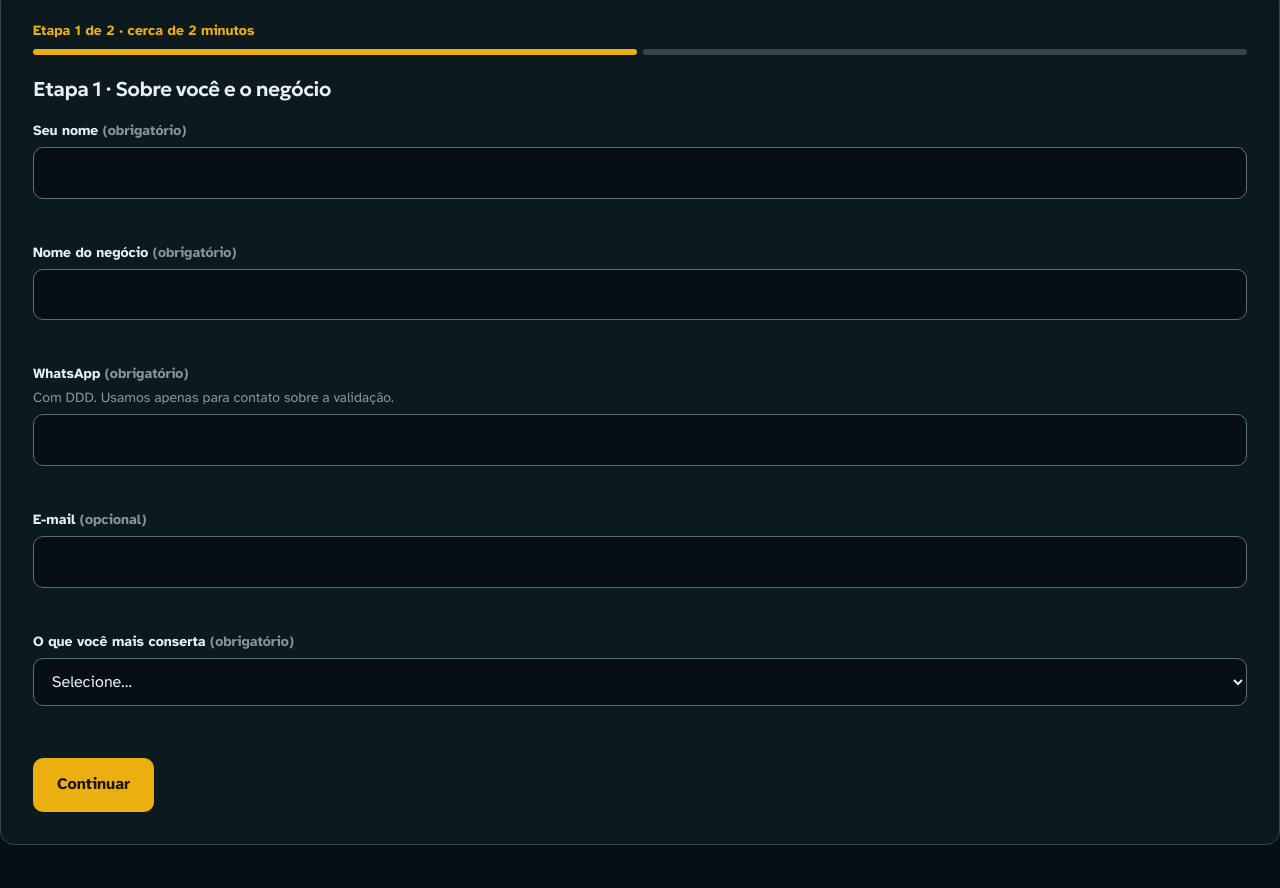
Test case: LeadInterestForm (FR-011..FR-025, NFR-001) › keeps the privacy consent checkbox unchecked by default (never preselected)
Type "Fulano de Teste" into the field labelled "Seu nome (obrigatório)". click: (640, 173)
box: [33, 147, 1247, 198]
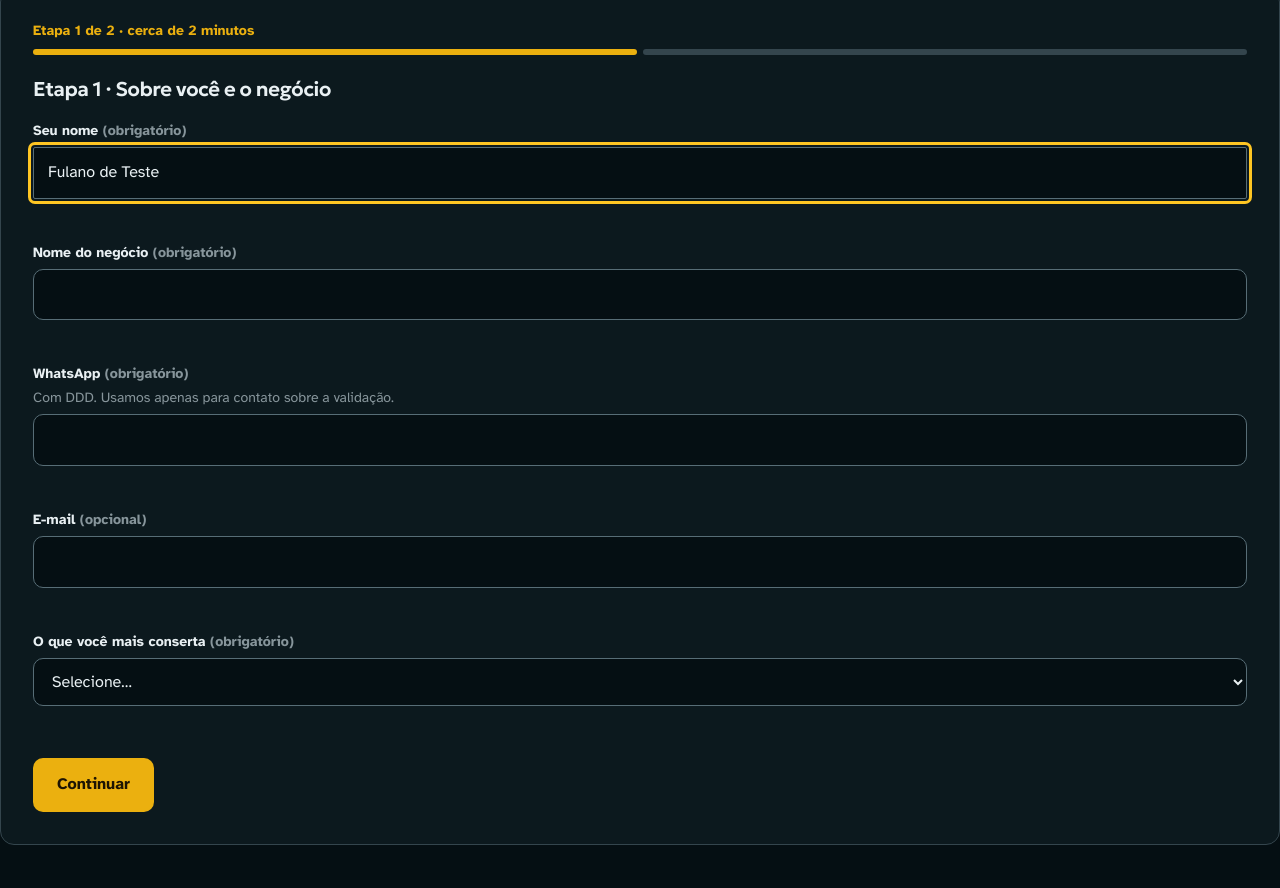
Type "Bancada Sintética" into the field labelled "Nome do negócio (obrigatório)". click: (640, 294)
box: [33, 268, 1247, 320]
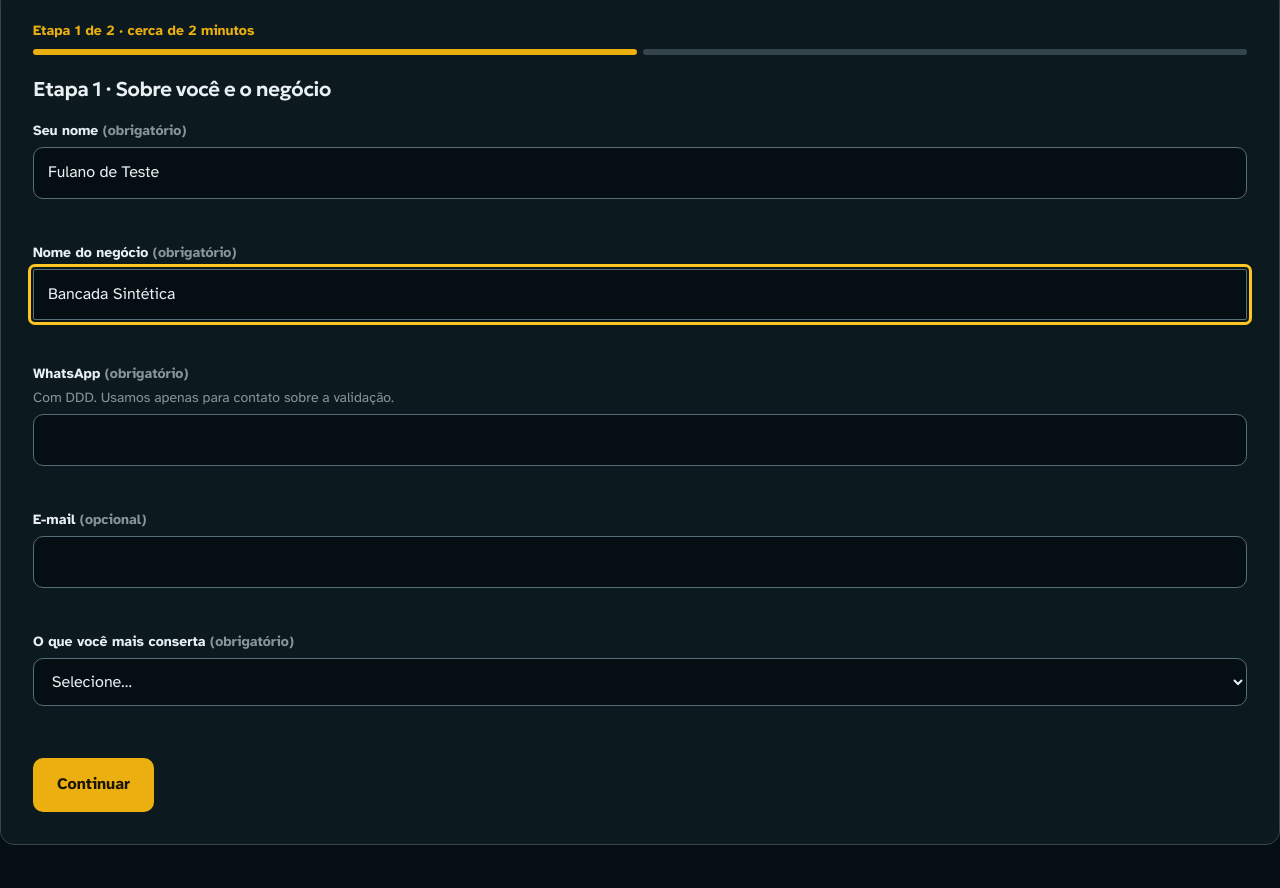
Type "11988887777" into the field labelled "WhatsApp (obrigatório)". click: (640, 440)
box: [33, 414, 1247, 466]
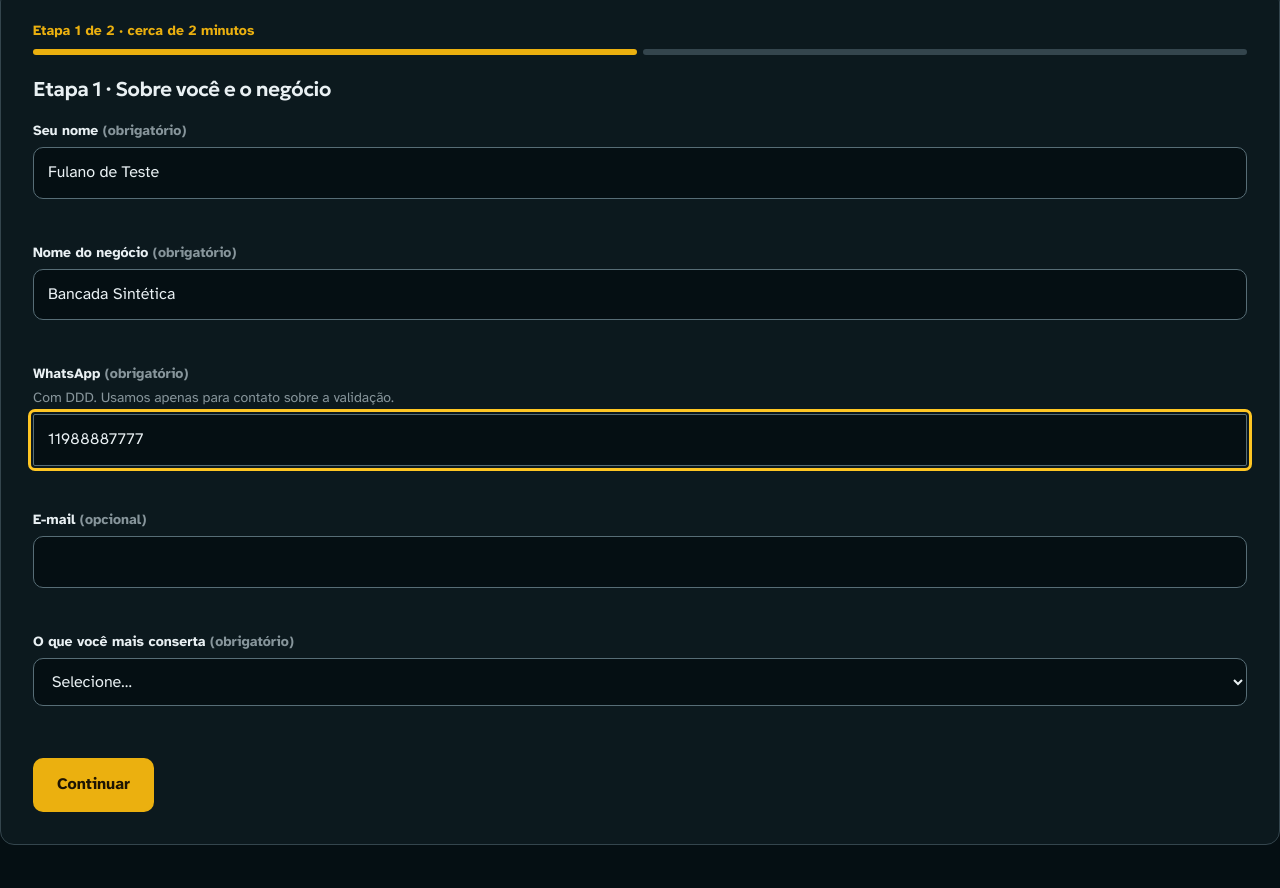
Type "ana@example.com" into the field labelled "E-mail (opcional)". click: (640, 562)
box: [33, 536, 1247, 588]
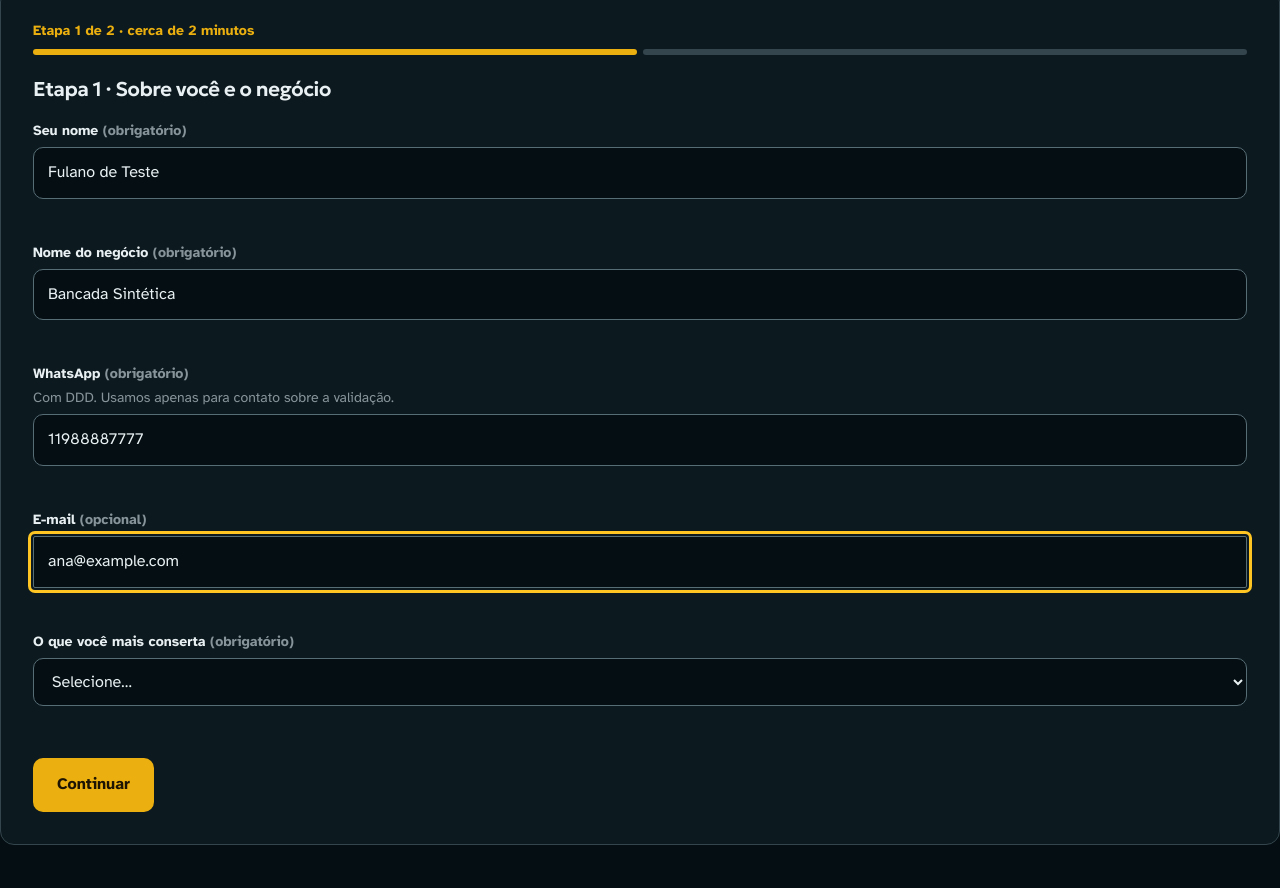
Select "Celulares e tablets" in the dropdown labelled "O que você mais conserta (obrigatório)". click: (640, 682)
box: [33, 658, 1247, 706]
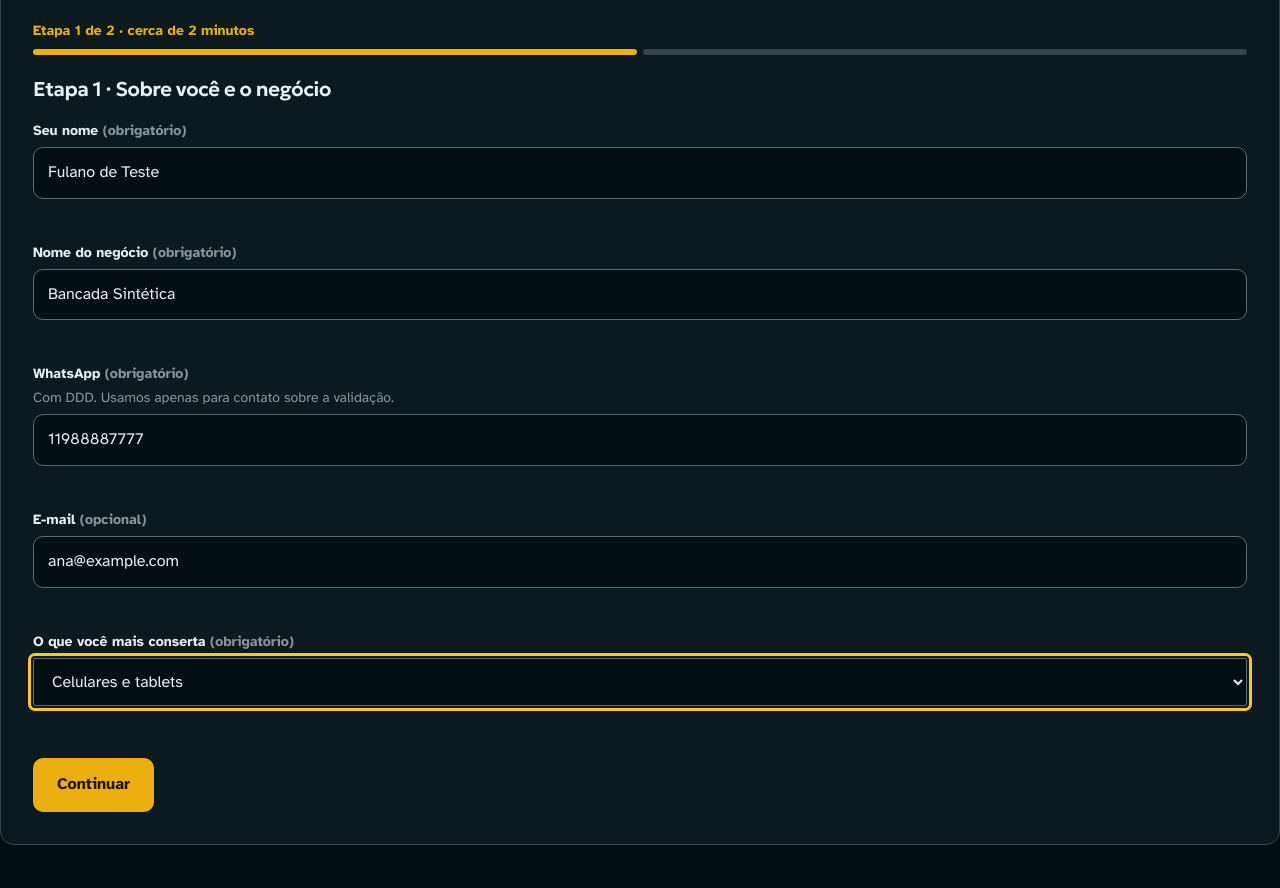
Click the button "Continuar". click: (94, 785)
box: [33, 758, 154, 812]
(page scrolled)
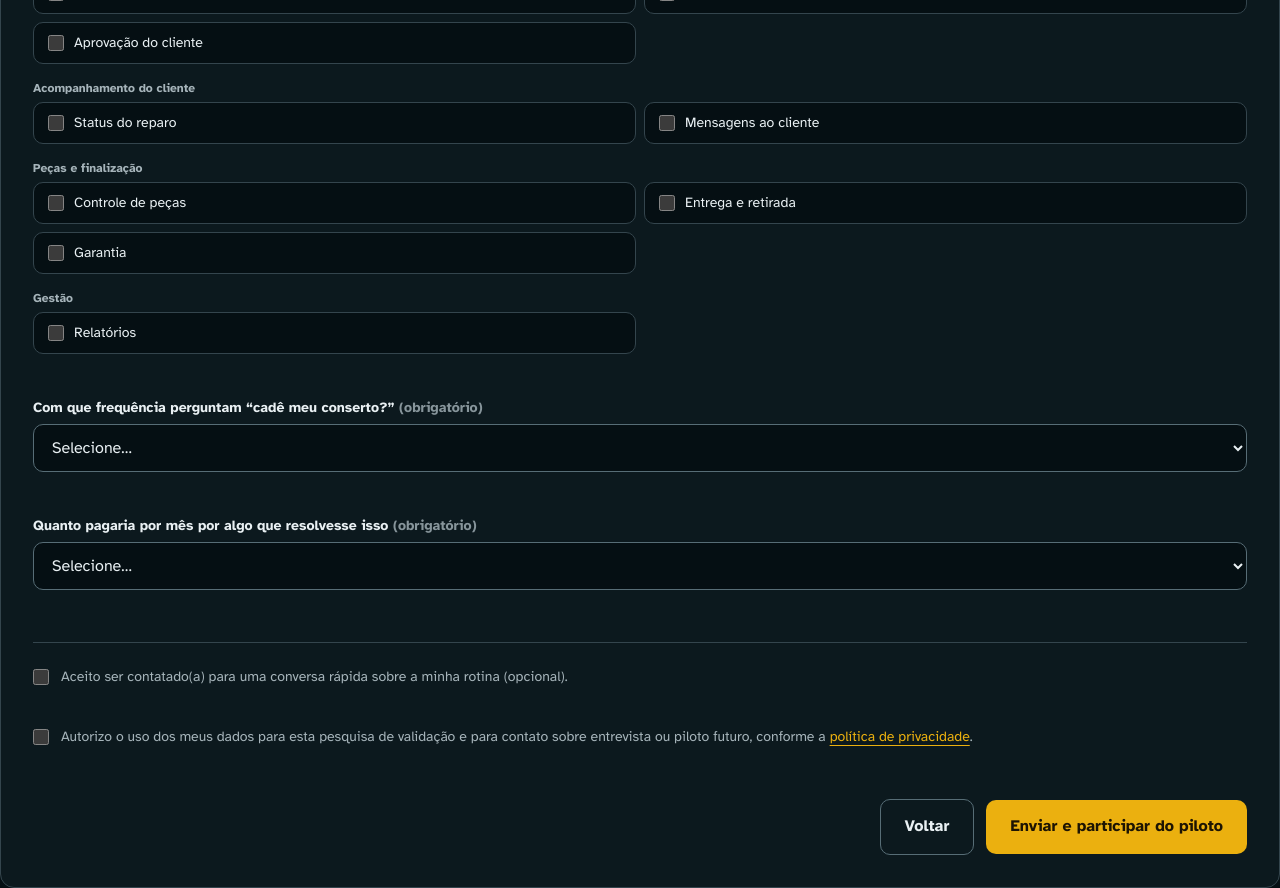
Result: the checkbox labelled "Autorizo o uso dos meus dados" is not checked at [33, 729, 49, 745]
